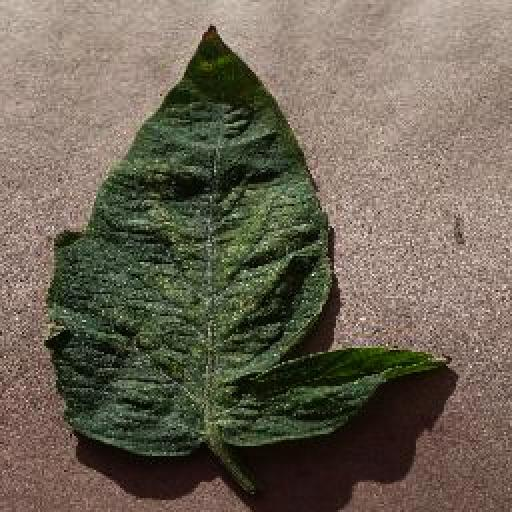disease_tomato: (44, 24, 452, 458)
